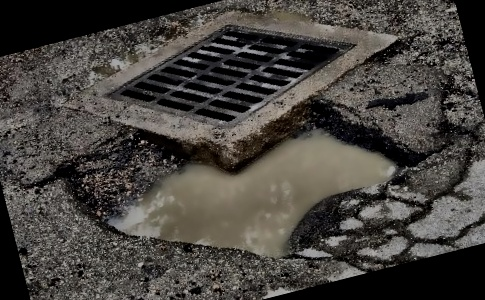pothole: (44, 58, 439, 300)
